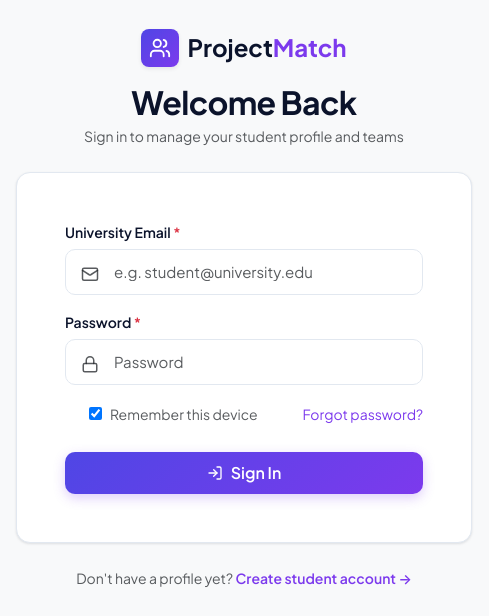
Scenario: LoginPage › shows a password required error when only the email is filled in
This screenshot has width=489, height=616.
Type "student@university.edu" into the field labelled "University Email *" at (244, 272), box 65,249 -> 423,295
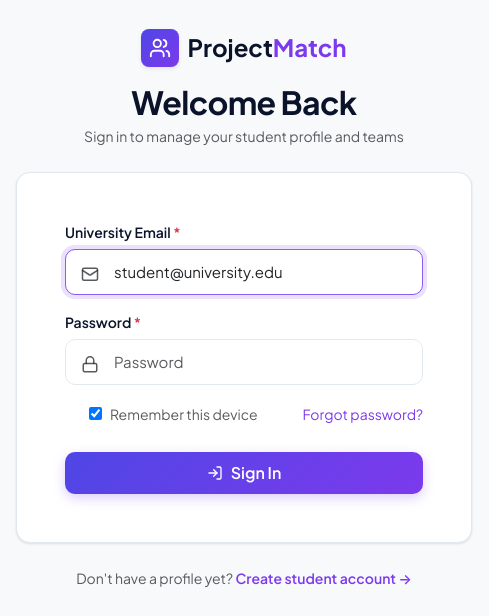
Click the button "Sign In" at (244, 473), box 65,452 -> 423,494
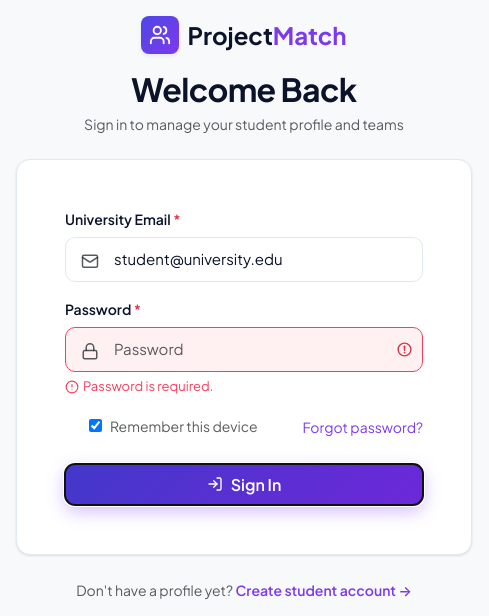
Result: the text "Password is required." is shown at 83,376 -> 214,397
